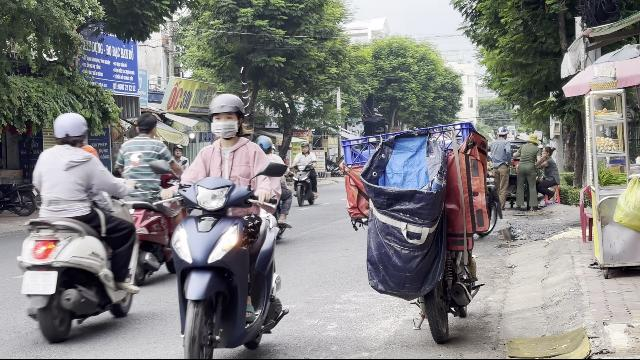helmet: (206, 93, 246, 139), (51, 112, 89, 148)
licenseplate: (21, 270, 57, 294)
motorcyclist: (162, 94, 294, 356), (13, 109, 139, 340), (113, 113, 185, 285)
nohelmet: (134, 113, 158, 137)
